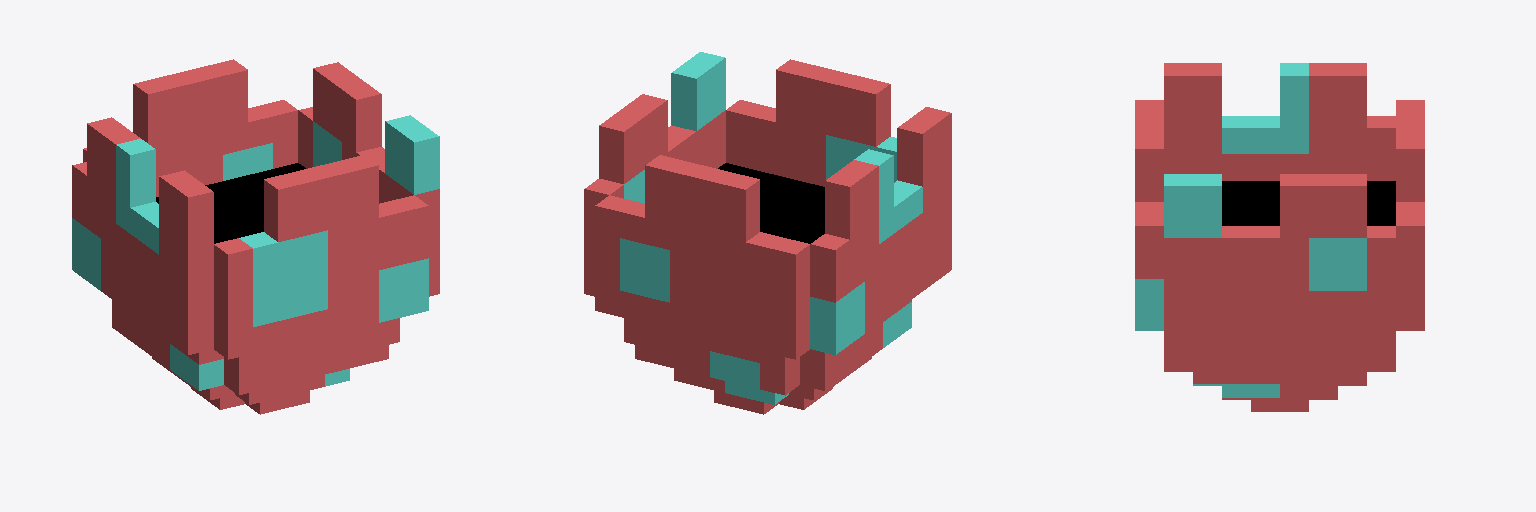
3 renders of one model, left to right at view 1: azimuth 30°, elevation 25°; view 2: azimuth 150°, elevation 25°; view 3: azimuth 270°, elevation 25°, orthographic.
Parts seen in each view (by area): view 1: eggItem-0; view 2: eggItem-0; view 3: eggItem-0.
Boxes of the visible parts, <box> form: eggItem-0: <box>72,59,439,414</box>; eggItem-0: <box>584,52,951,414</box>; eggItem-0: <box>1135,63,1424,411</box>.
Bounding box in the file's own units: 10 × 10 × 10.
1 materials, 1 textured.